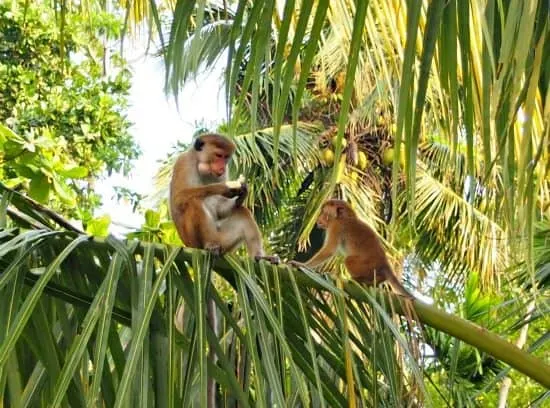Monkey: (160, 127, 275, 263)
